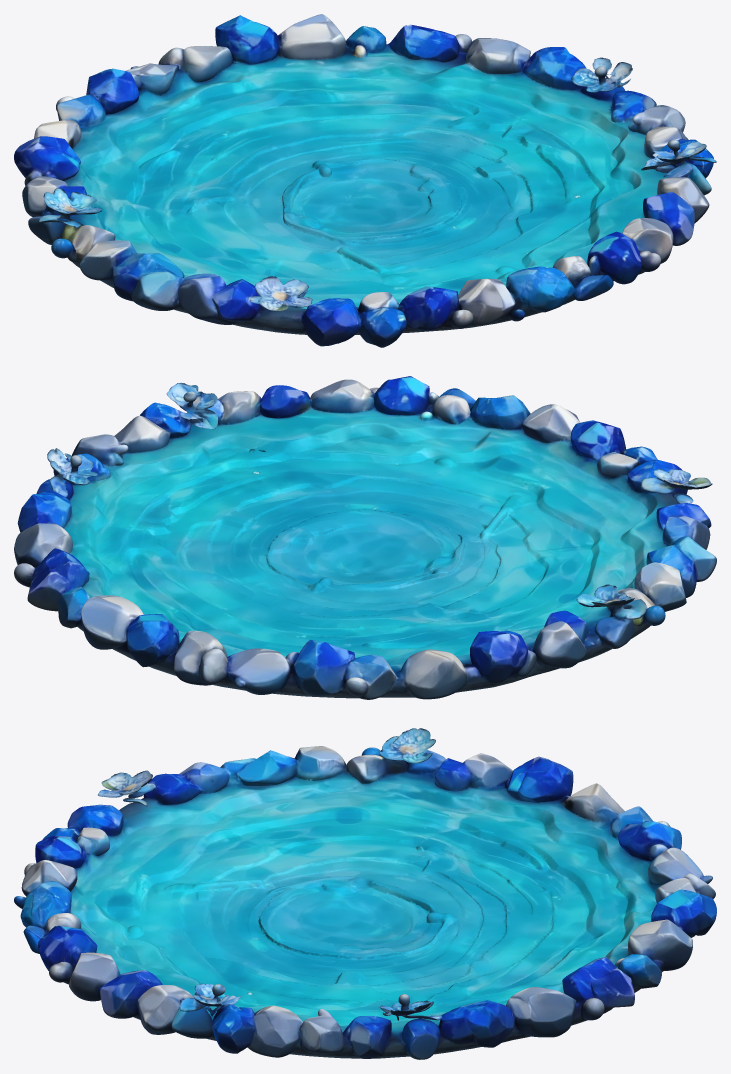
Rendered from pond.glb.
3 views of the same model, one above another, from view 1: azimuth 30°, elevation 25°; view 2: azimuth 150°, elevation 25°; view 3: azimuth 270°, elevation 25° (orthographic).
Visible parts, largest first — view 1: tripo_node_134812f7-c399-44ef-a0ad-2cf6ecacadca; view 2: tripo_node_134812f7-c399-44ef-a0ad-2cf6ecacadca; view 3: tripo_node_134812f7-c399-44ef-a0ad-2cf6ecacadca.
Boxes of the visible parts, left/top/right/bottom form: tripo_node_134812f7-c399-44ef-a0ad-2cf6ecacadca: left=14, top=14, right=716, bottom=347; tripo_node_134812f7-c399-44ef-a0ad-2cf6ecacadca: left=14, top=376, right=716, bottom=699; tripo_node_134812f7-c399-44ef-a0ad-2cf6ecacadca: left=14, top=728, right=716, bottom=1059.
Size of the model in its own units: 0.9945 by 0.1141 by 0.9985.
1 material, 1 textured.
